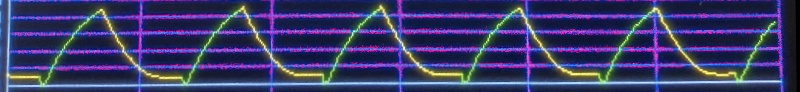leakage: (0, 0, 778, 92)
